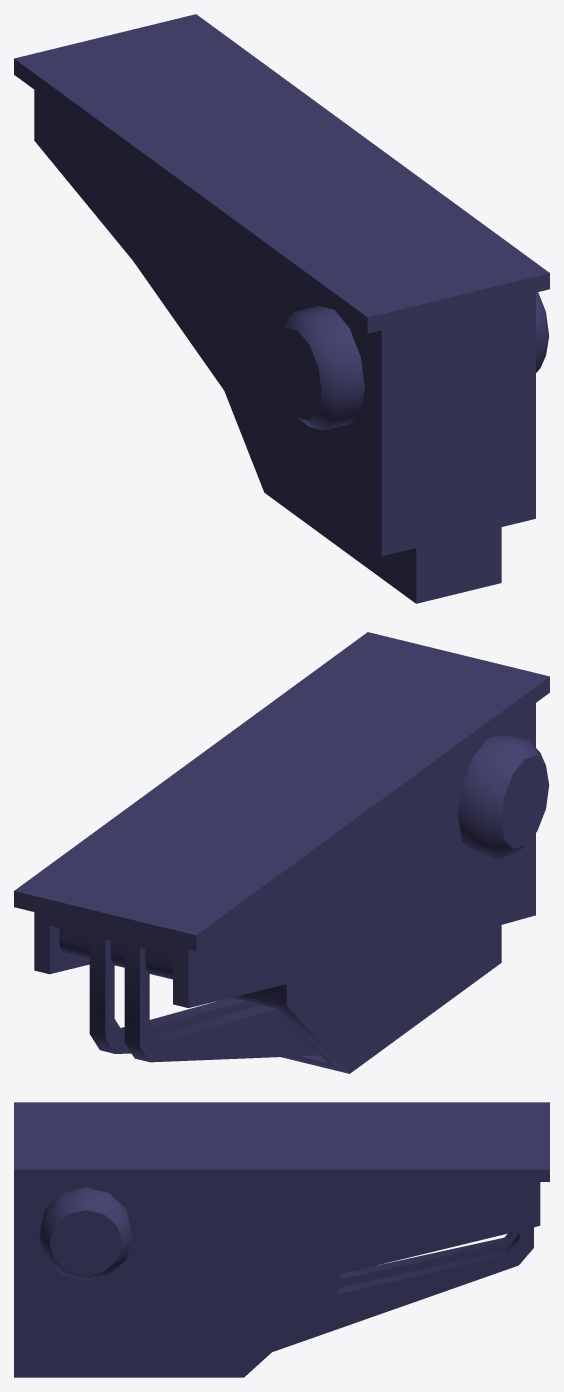
File: Bridge_A_Console_2m.FBX
3 renders of one model, top to bottom at view 1: azimuth 30°, elevation 25°; view 2: azimuth 150°, elevation 25°; view 3: azimuth 270°, elevation 25°, orthographic. The views are drawn at different scales.
Parts seen in each view (by area): view 1: Bridge_A_Console_2m; view 2: Bridge_A_Console_2m; view 3: Bridge_A_Console_2m.
Part boxes in pixels (box(x1,y1,x2,y2)): Bridge_A_Console_2m: box(14, 14, 549, 603); Bridge_A_Console_2m: box(14, 632, 549, 1073); Bridge_A_Console_2m: box(14, 1102, 549, 1377).
Size of the model in its own units: 73.73 by 92.3 by 199.
